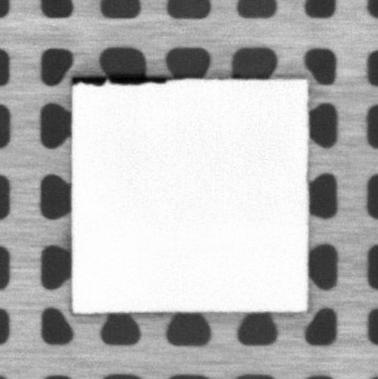DIE_BROKEN: (70, 73, 171, 88)
